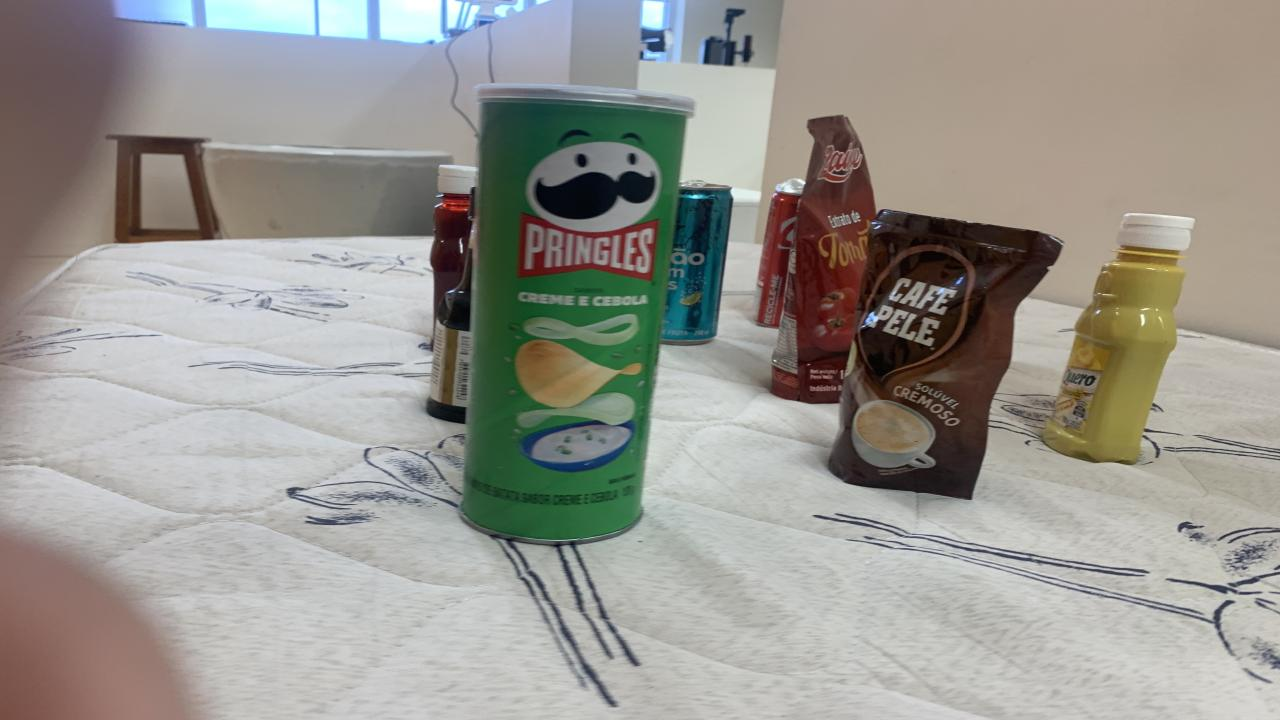Coffee-Pantry_Items: (830, 210, 1062, 499)
Coke-Drinks: (755, 178, 805, 326)
English_Sauce-Pantry_Items: (428, 195, 478, 424)
Ketchup-Pantry_Items: (430, 165, 478, 317)
Mustard-Pantry_Items: (1042, 214, 1195, 463)
Pringles-Snacks: (460, 86, 685, 544)
Tea-Drinks: (662, 182, 732, 345)
Tomato_Sauce-Pantry_Items: (770, 116, 875, 403), (428, 188, 475, 424)
